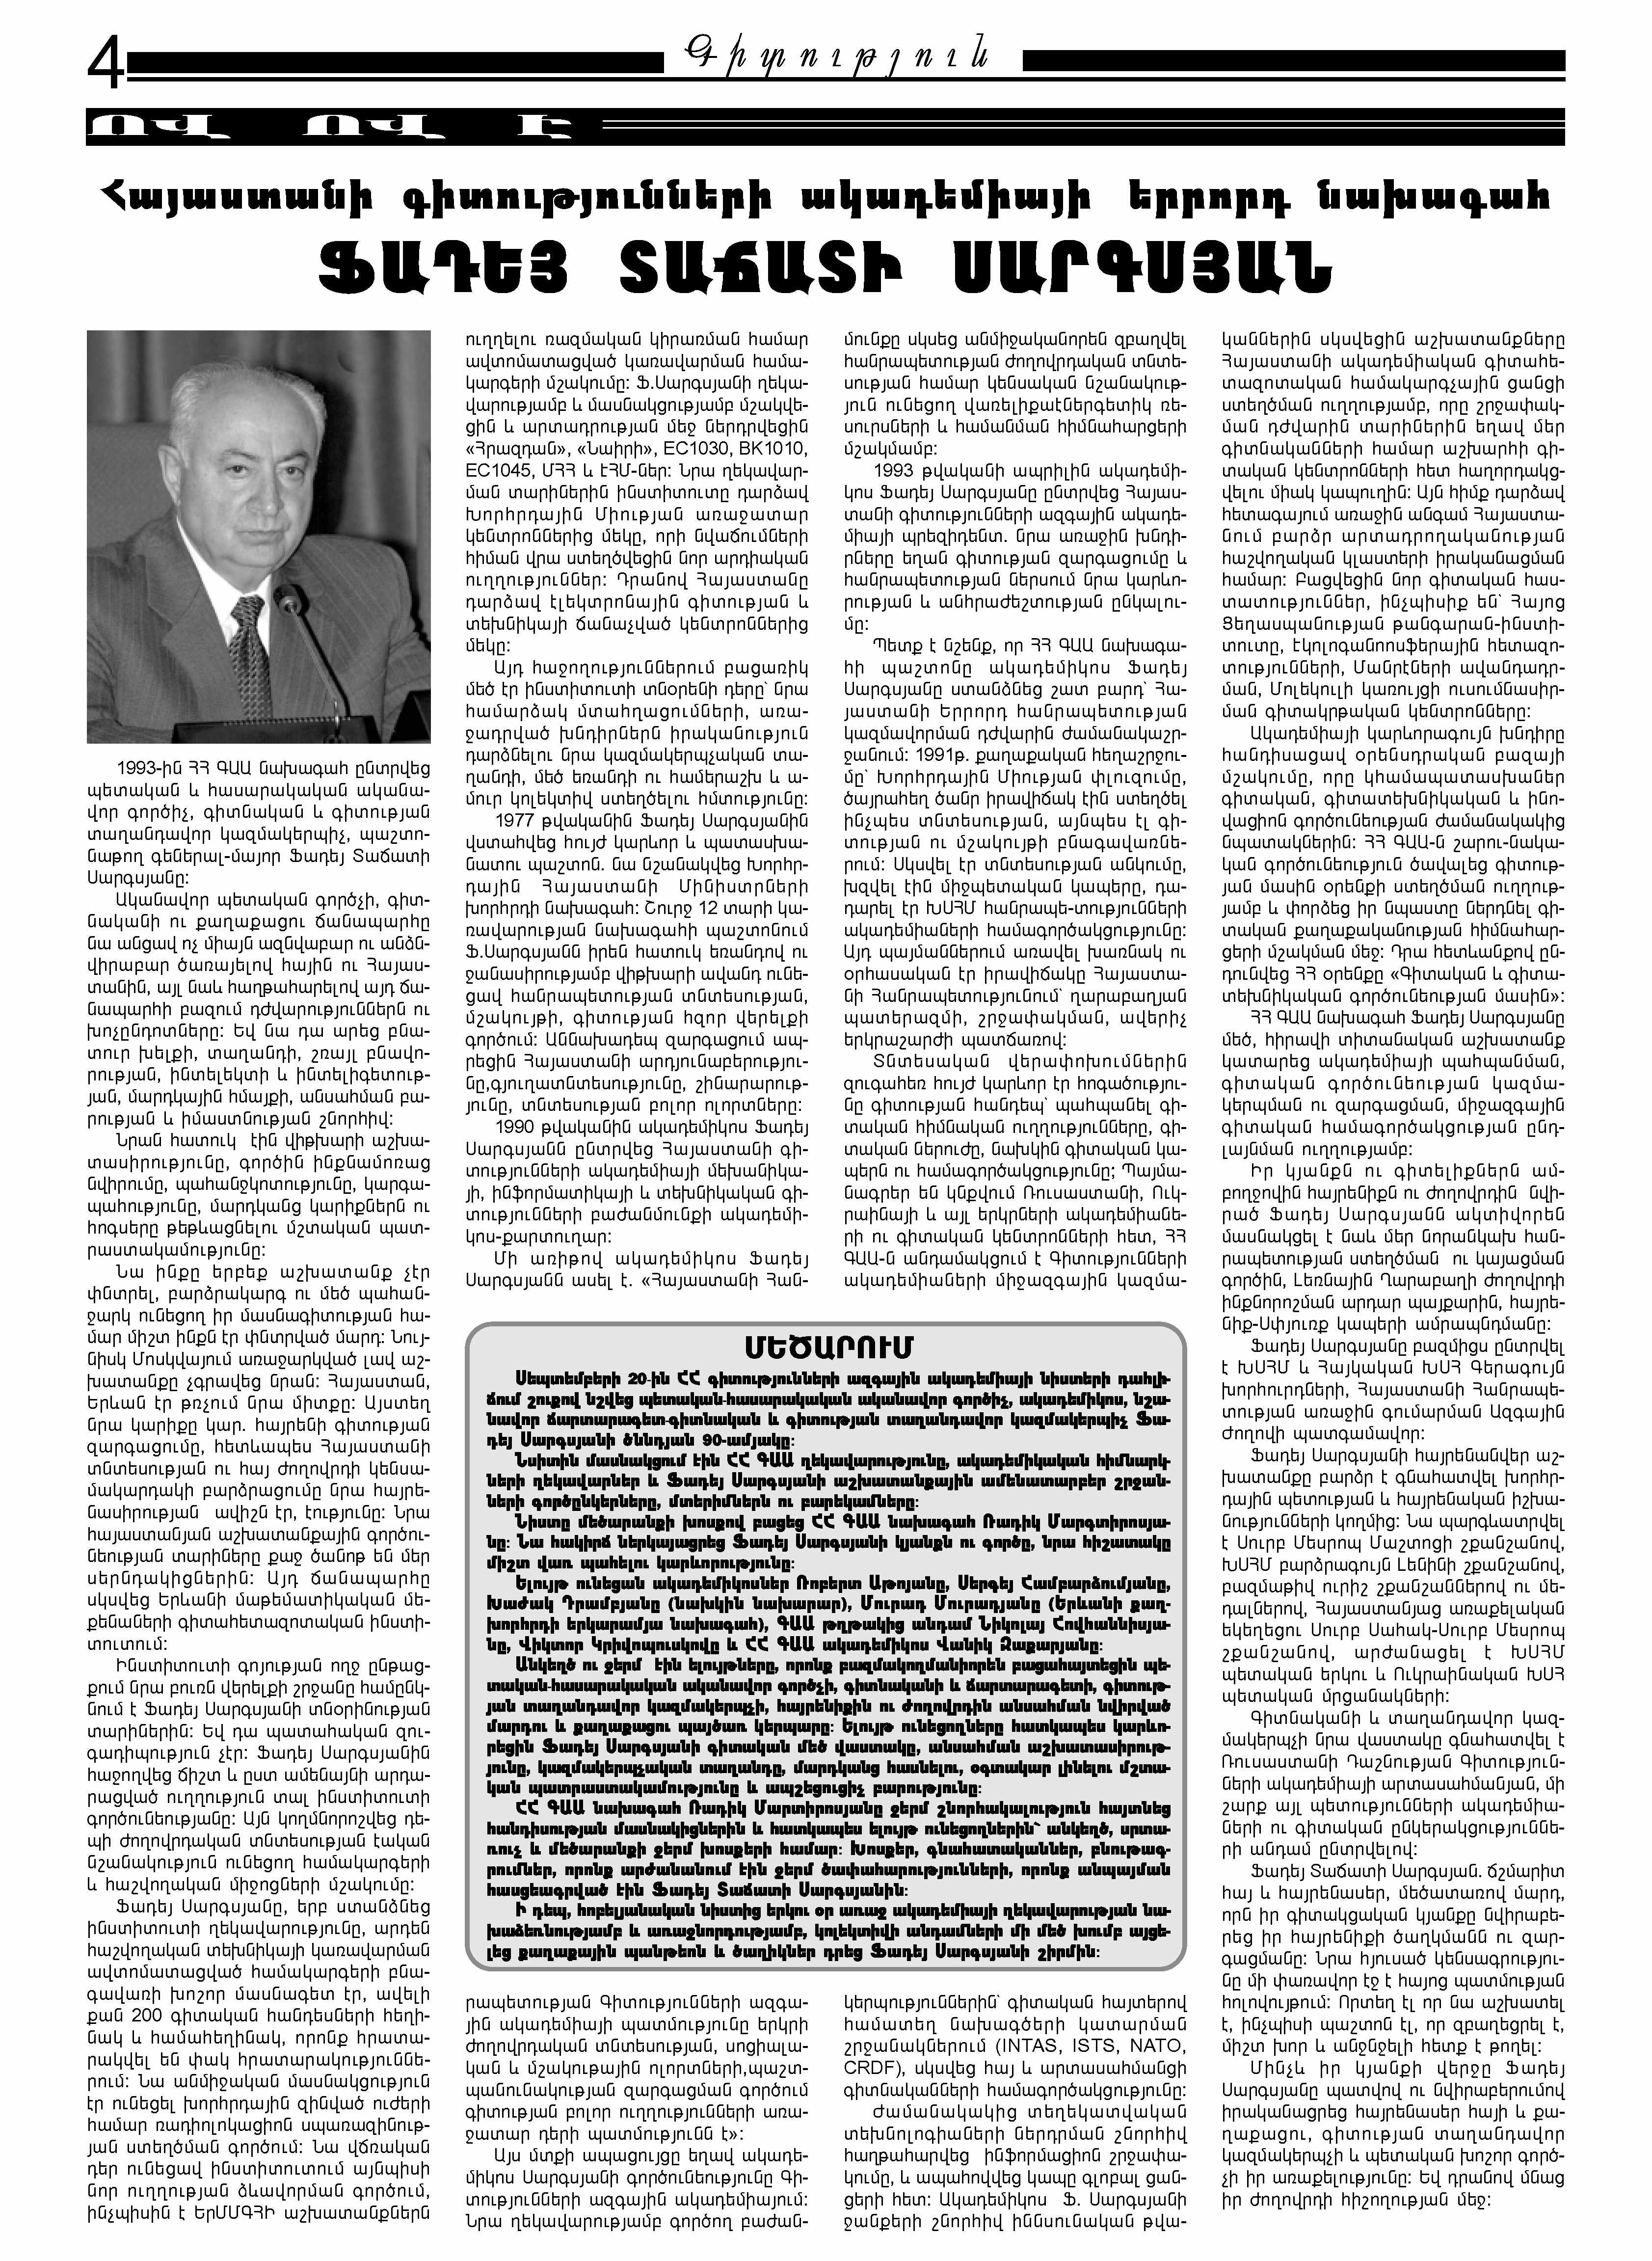table: (74, 321, 449, 748)
